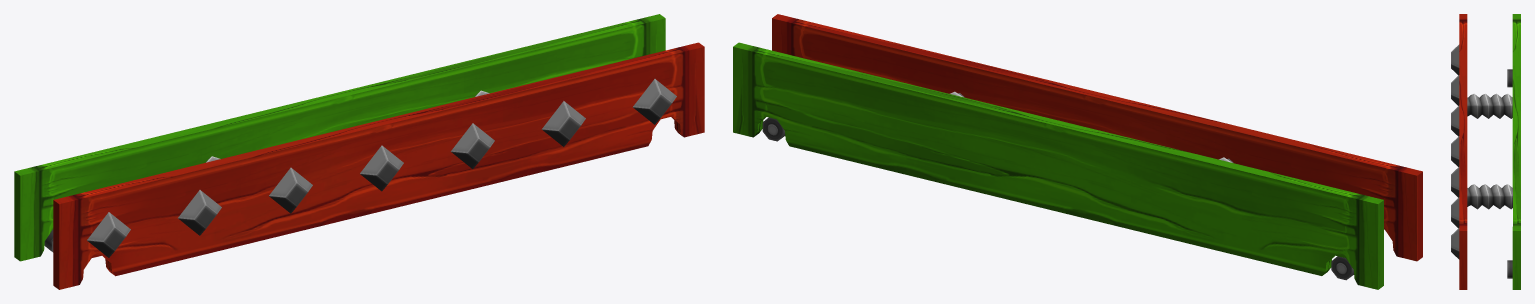
The model's file is dynamic_fence_burger_04.fbx.
3 renders of one model, left to right at view 1: azimuth 30°, elevation 25°; view 2: azimuth 150°, elevation 25°; view 3: azimuth 270°, elevation 25°, orthographic. The views are drawn at different scales.
Visible parts, largest first — view 1: dynamic_fence_burger_04; view 2: dynamic_fence_burger_04; view 3: dynamic_fence_burger_04.
Part boxes in pixels (<box>): dynamic_fence_burger_04: <box>14,14,704,289</box>; dynamic_fence_burger_04: <box>733,14,1422,289</box>; dynamic_fence_burger_04: <box>1451,14,1520,289</box>.
Size of the model in its own units: 315 by 40 by 42.9.
